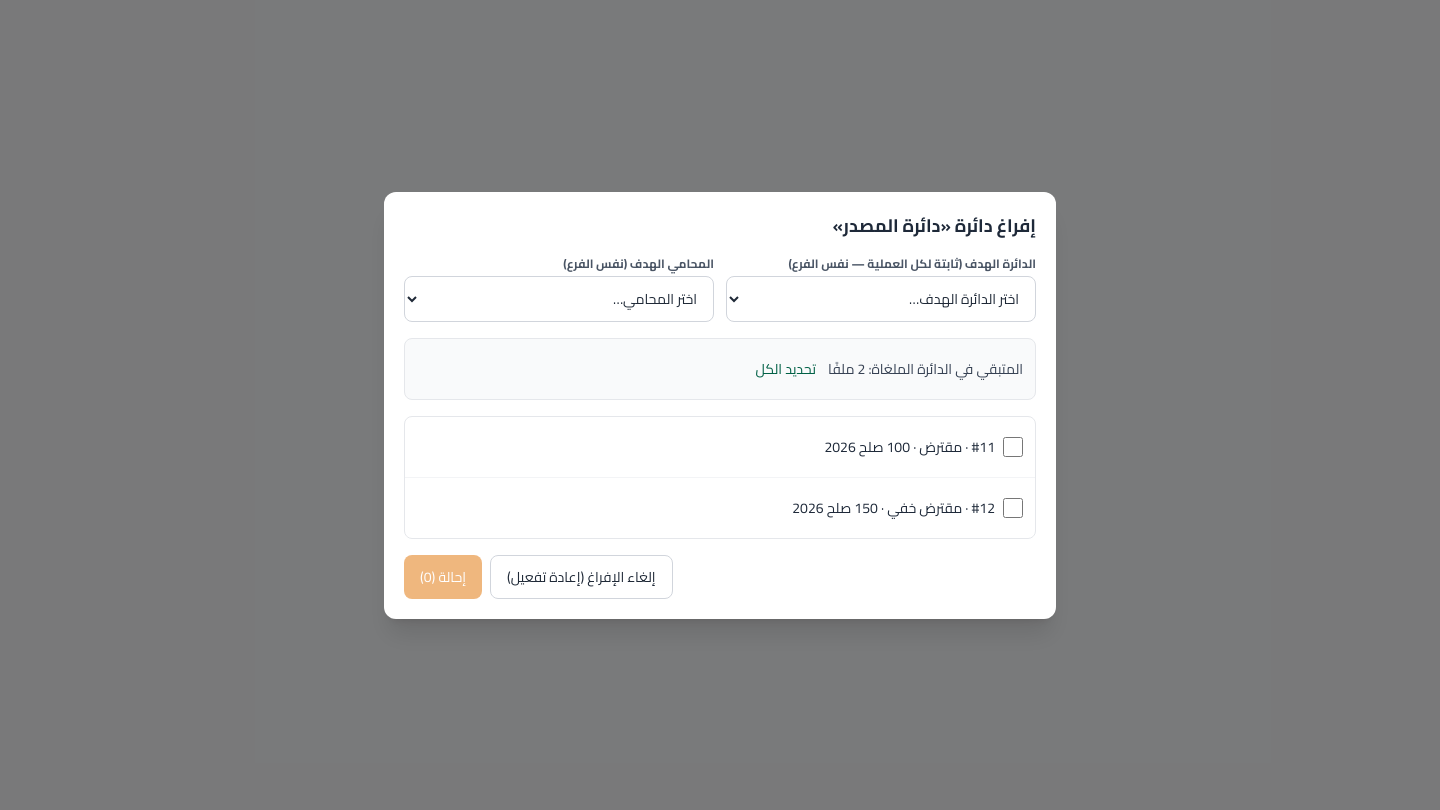
Scenario: CircuitEmptyingWizard › يُظهر البانر الحرفي عند اكتمال الإفراغ ويُرشّح المحامين المعطلين
Step 1. Select "دائرة الهدف" in the dropdown labelled "الدائرة الهدف (ثابتة لكل العملية — نفس الفرع)" → (881, 298), box [726,276,1036,322]
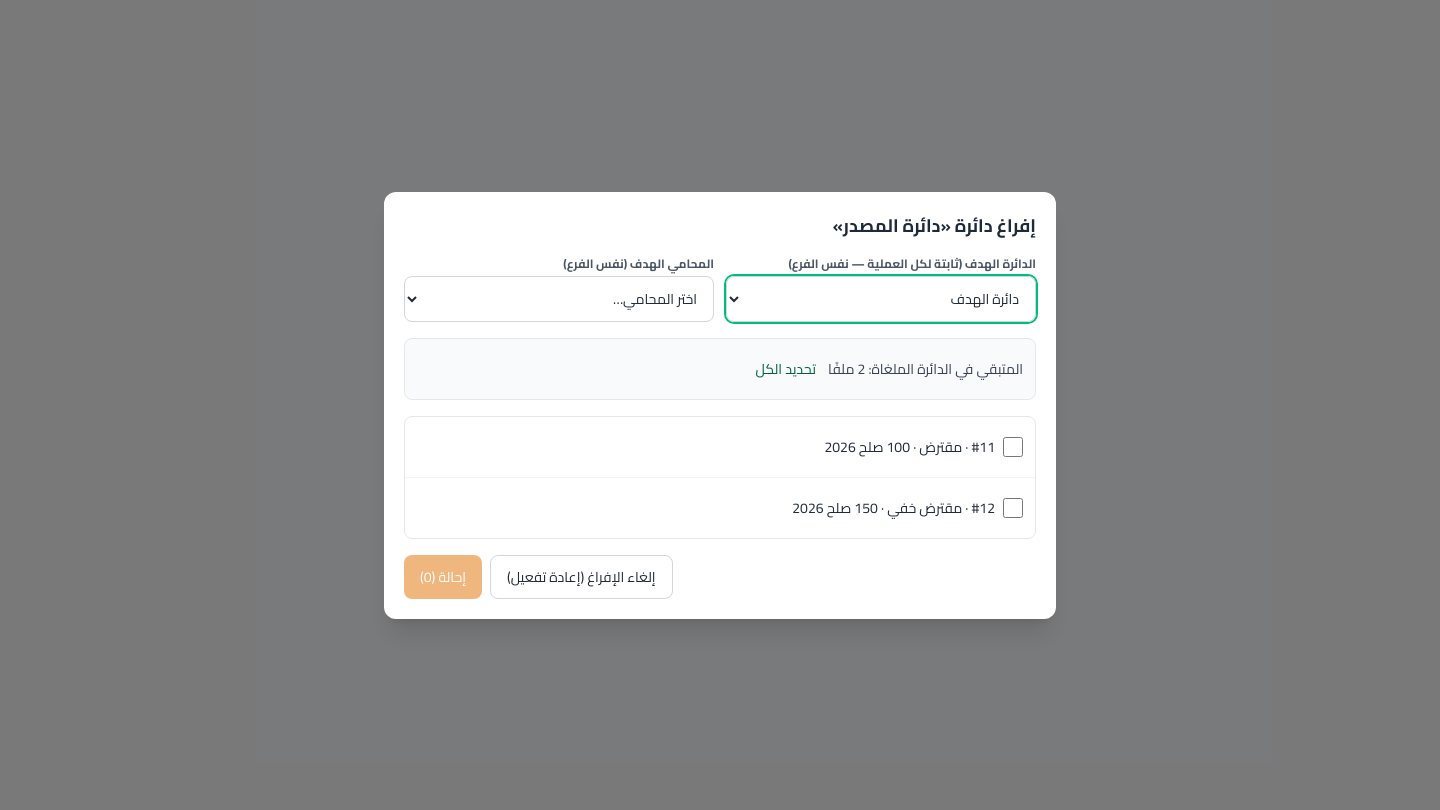
Step 2. Select "محامي نشط" in the dropdown labelled "المحامي الهدف (نفس الفرع)" → (559, 298), box [404,276,714,322]
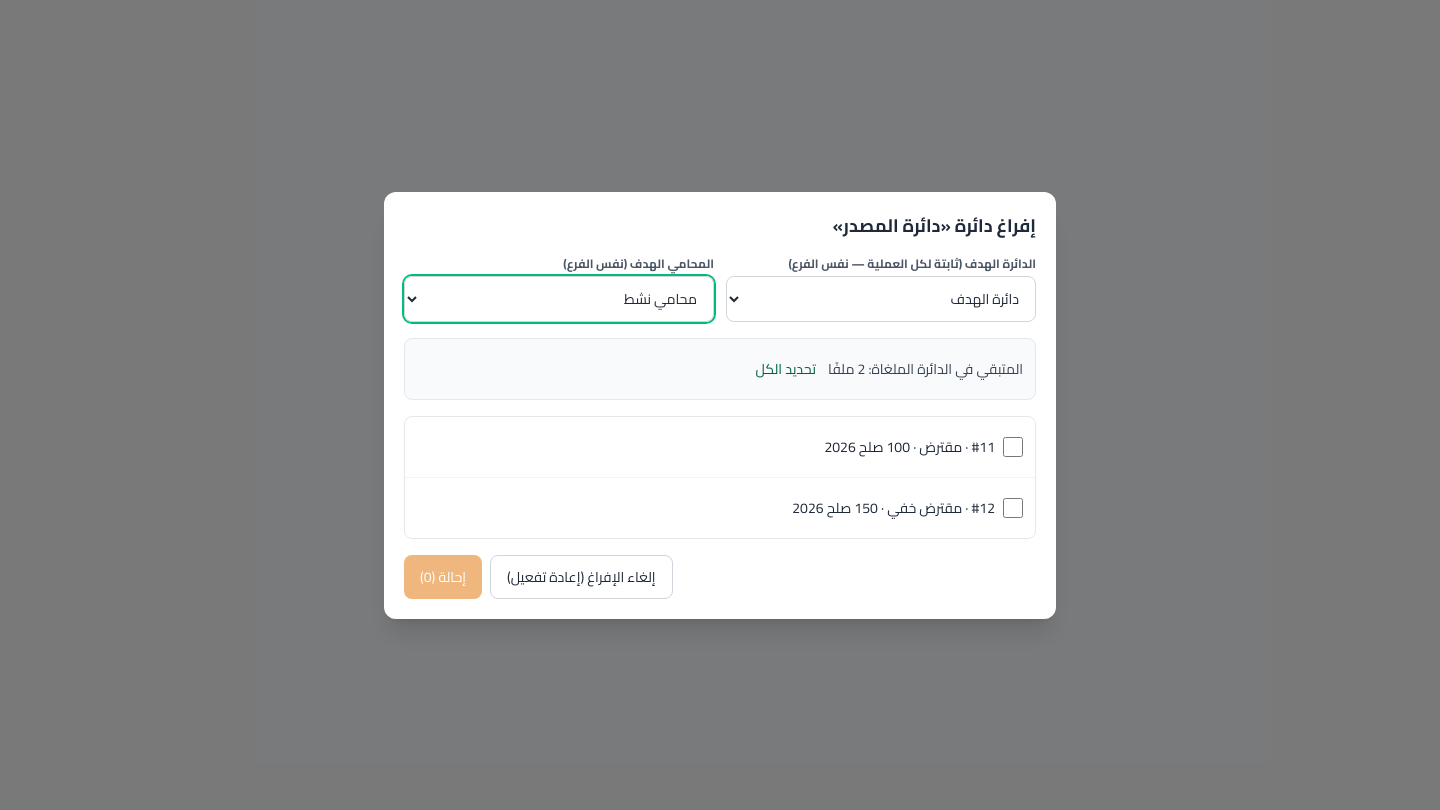
Step 3. Click the checkbox named "إحالة ملف 11" → (1013, 446), box [1003,424,1023,468]
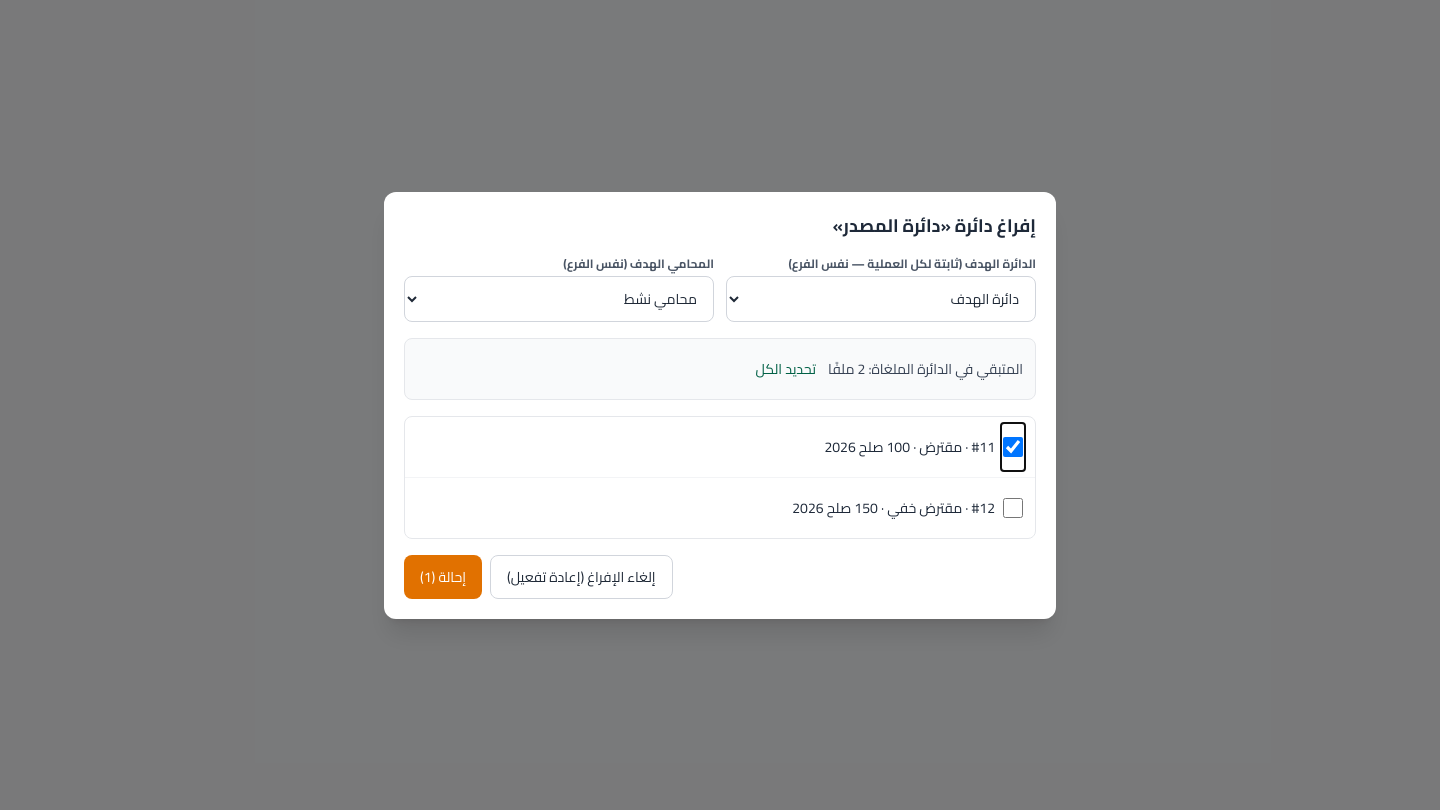
Step 4. Click the button "إحالة (1)" → (443, 576), box [404,554,482,598]
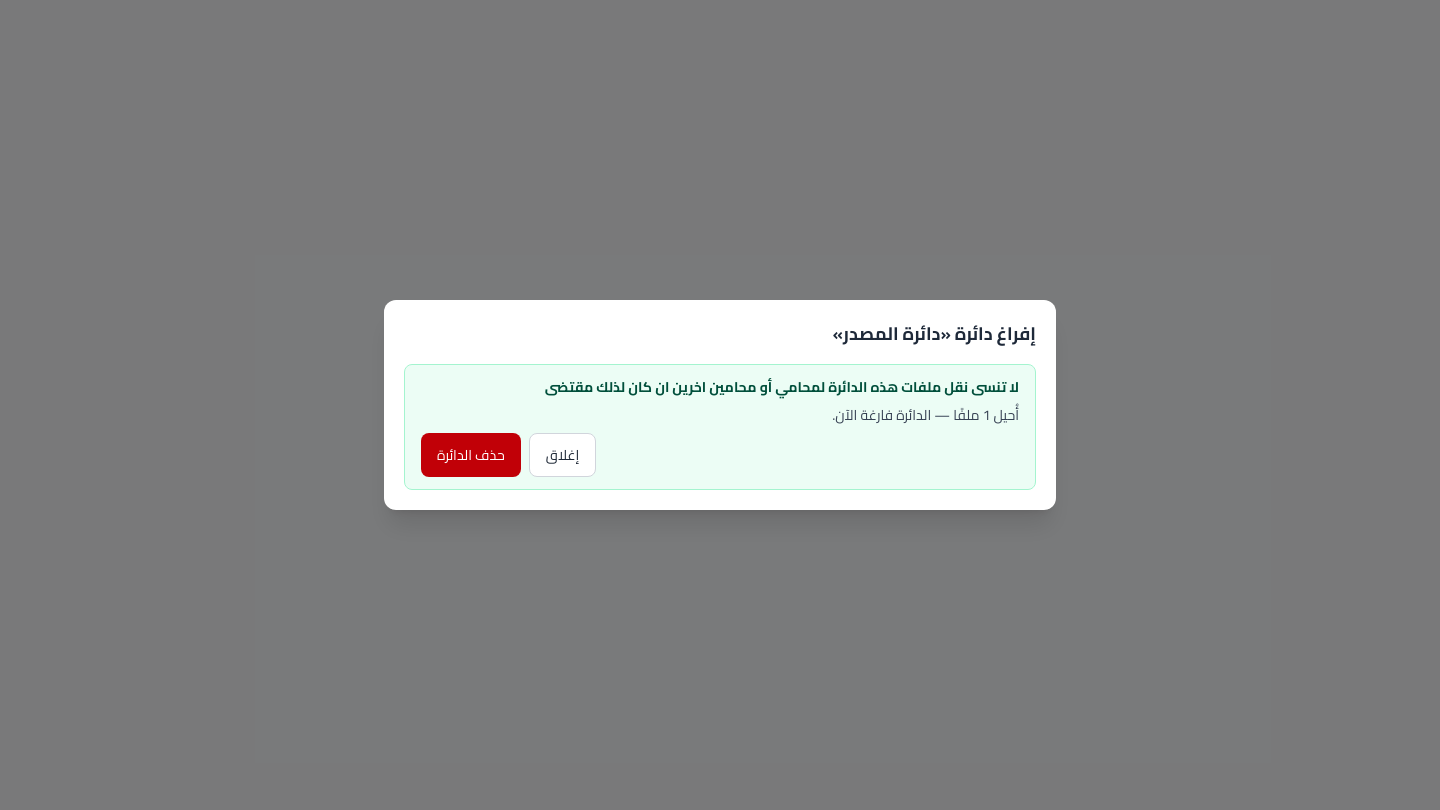
Expected: the text "لا تنسى نقل ملفات هذه الدائرة لمحامي أو محامين اخرين ان كان لذلك مقتضى" is shown, [545,374,1019,400]
